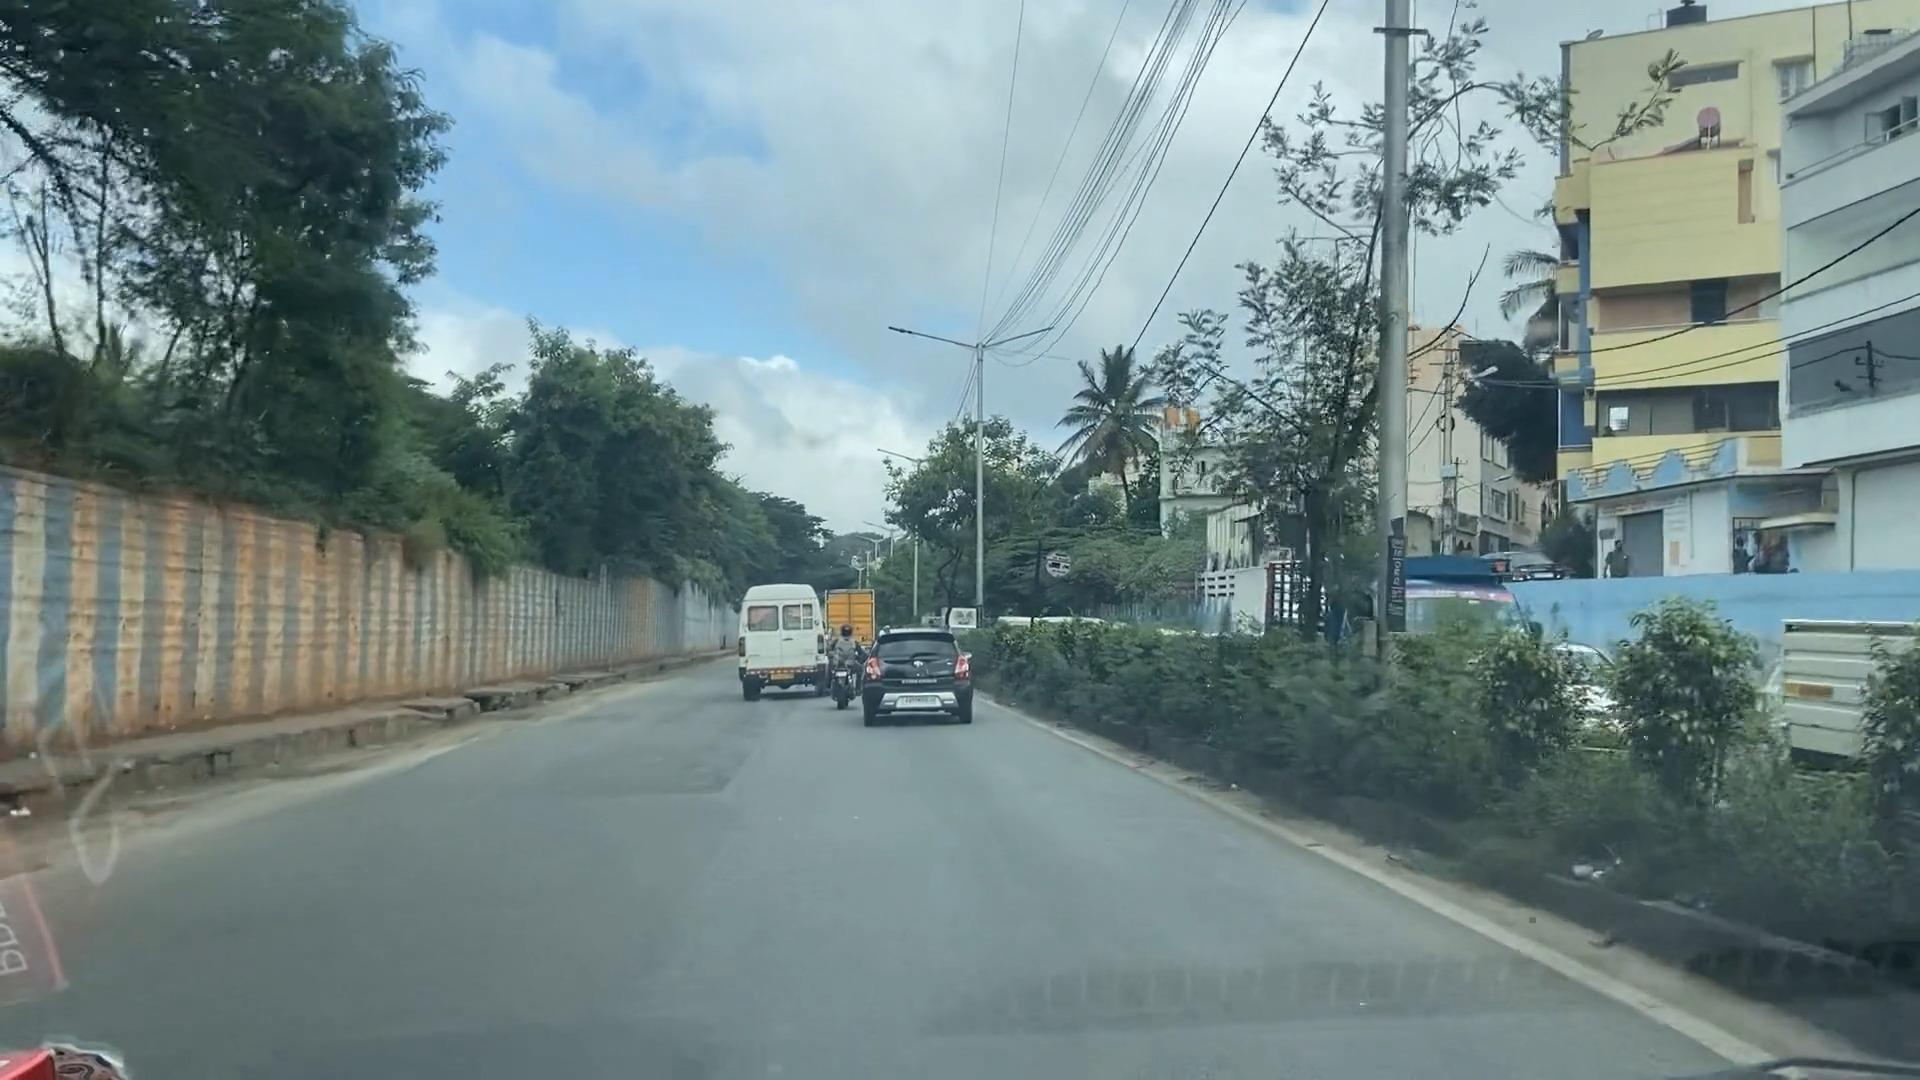HMV: (740, 585, 822, 705)
LMV: (866, 632, 973, 727), (824, 624, 862, 717)
